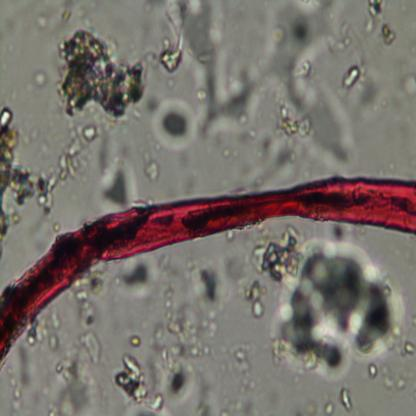Background material: (245, 227, 405, 385), (114, 256, 225, 413), (260, 0, 357, 173), (158, 0, 260, 132), (26, 270, 107, 416), (54, 26, 152, 125), (0, 104, 57, 248), (148, 97, 197, 153), (55, 124, 98, 182), (336, 59, 381, 112), (112, 258, 160, 302), (0, 340, 28, 414), (97, 164, 137, 215), (362, 0, 398, 46), (238, 272, 267, 319), (31, 3, 76, 32), (401, 57, 416, 110), (237, 339, 254, 385), (219, 145, 246, 167), (141, 150, 160, 181), (339, 388, 353, 412), (403, 339, 416, 360), (366, 360, 377, 381), (34, 72, 48, 88), (320, 403, 336, 414)
Cotton: (0, 172, 416, 358)
